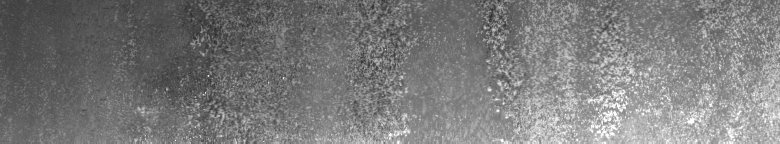hc: (348, 4, 416, 136)
